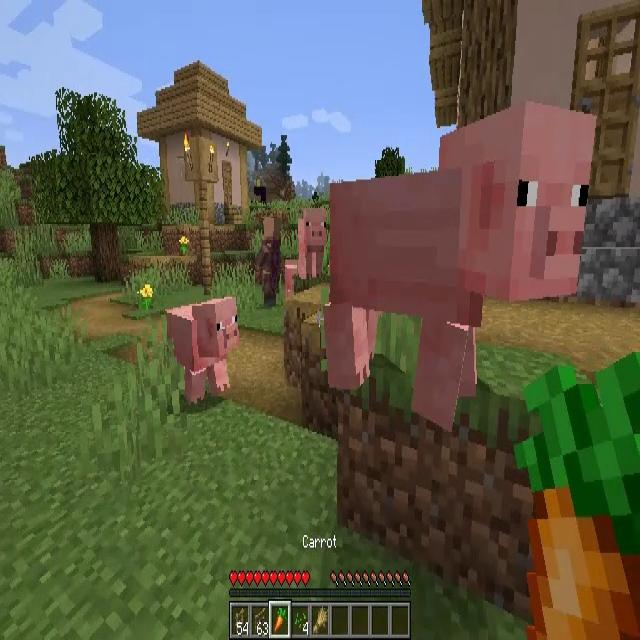flower: (139, 283, 153, 312), (179, 235, 190, 257)
people: (255, 218, 281, 307)
pig: (329, 112, 597, 416), (165, 296, 241, 396), (298, 210, 330, 280)
